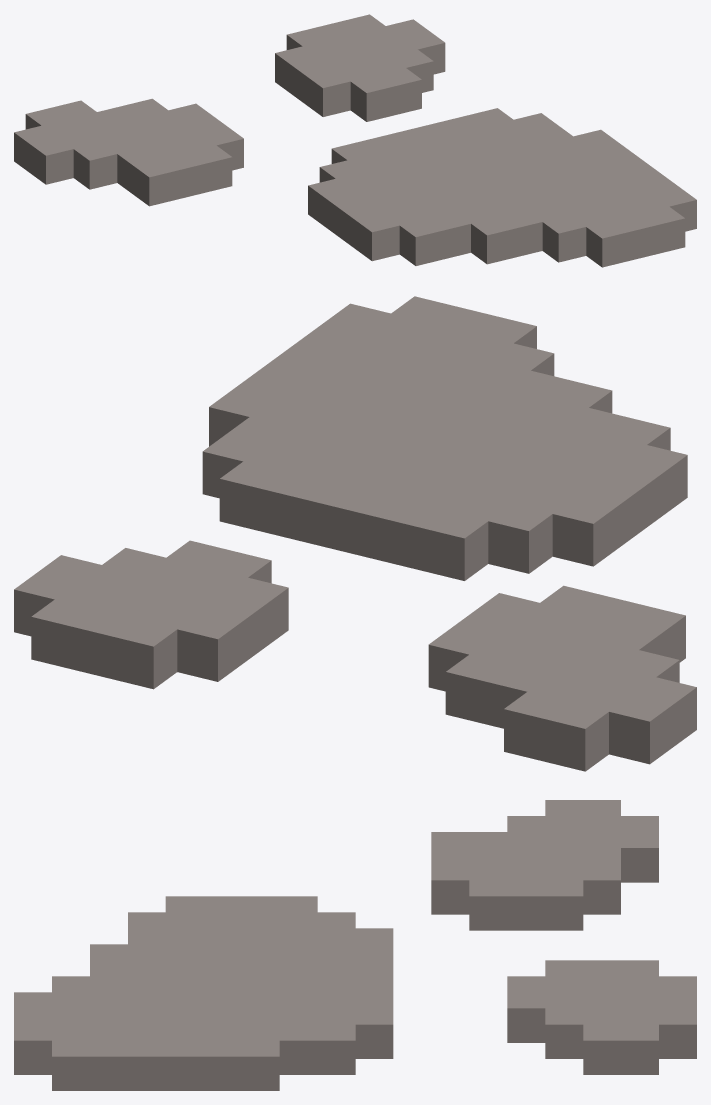
The model's file is StepStones.obj.
3 views of the same model, one above another, from view 1: azimuth 30°, elevation 25°; view 2: azimuth 150°, elevation 25°; view 3: azimuth 270°, elevation 25° (orthographic). The views are drawn at different scales.
Size of the model in its own units: 1.6 by 0.1 by 1.8.
Materials: 1 (1 with a texture image).
